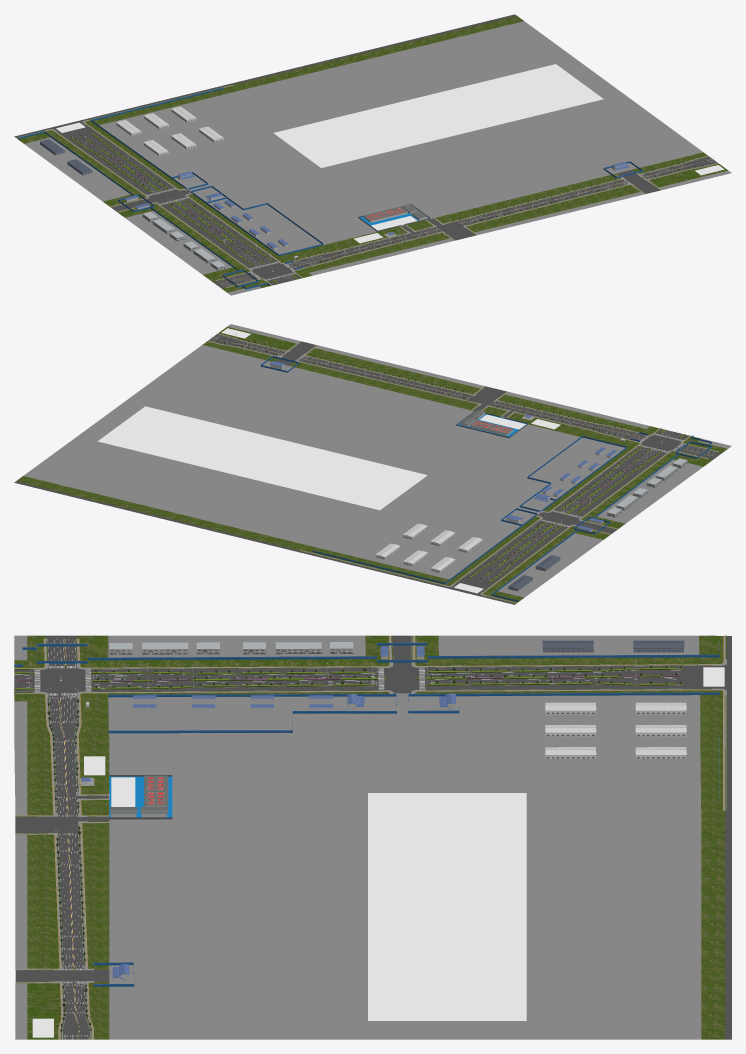
File: SceneIndex.FBX
The picture shows the model from 3 angles, top to bottom: view 1: azimuth 30°, elevation 25°; view 2: azimuth 150°, elevation 25°; view 3: azimuth 270°, elevation 25°; orthographic projection. The views are drawn at different scales.
Visible parts, largest first — view 1: SL_JingXiao_K3_LuMian03_001, SL_JingXiao_K3_Zi01_001, SL_JingXiao_K3_Cao01_001, SL_JingXiao_K3_LuMian01_001, SL_JingXiao_K3_MLY01_01, SL_JingXiao_K3_Cao02_001, SL_JingXiao_K3_Qiang01_03, SL_JingXiao_K3_Qiang01_02, SL_JingXiao_K3_Qiang01_04; view 2: SL_JingXiao_K3_LuMian03_001, SL_JingXiao_K3_Zi01_001, SL_JingXiao_K3_Cao01_001, SL_JingXiao_K3_LuMian01_001, SL_JingXiao_K3_MLY01_01, SL_JingXiao_K3_Cao02_001, SL_JingXiao_K3_Qiang01_03, SL_JingXiao_K3_Qiang01_02, SL_JingXiao_K3_Qiang01_04; view 3: SL_JingXiao_K3_LuMian03_001, SL_JingXiao_K3_Zi01_001, SL_JingXiao_K3_Cao01_001, SL_JingXiao_K3_LuMian01_001, SL_JingXiao_K3_MLY01_01, SL_JingXiao_K3_Cao02_001, SL_JingXiao_K3_Qiang01_04, SL_JingXiao_K3_Qiang01_02, SL_JingXiao_K3_DiXian02_001, SL_JingXiao_K3_MLY01_02, SL_JingXiao_K3_Qiang01_03, SL_JingXiao_K3_JianZhu01_77 (+4 smaller).
Part boxes in pixels (<box>): SL_JingXiao_K3_LuMian03_001: <box>24,21,731,295</box>; SL_JingXiao_K3_Zi01_001: <box>273,64,603,230</box>; SL_JingXiao_K3_Cao01_001: <box>17,16,727,292</box>; SL_JingXiao_K3_LuMian01_001: <box>14,14,717,288</box>; SL_JingXiao_K3_MLY01_01: <box>16,85,718,287</box>; SL_JingXiao_K3_Cao02_001: <box>16,84,717,287</box>; SL_JingXiao_K3_Qiang01_03: <box>91,87,223,189</box>; SL_JingXiao_K3_Qiang01_02: <box>206,197,323,255</box>; SL_JingXiao_K3_Qiang01_04: <box>17,131,238,270</box>; SL_JingXiao_K3_LuMian03_001: <box>23,324,731,597</box>; SL_JingXiao_K3_Zi01_001: <box>97,406,525,510</box>; SL_JingXiao_K3_Cao01_001: <box>16,326,727,602</box>; SL_JingXiao_K3_LuMian01_001: <box>14,334,721,604</box>; SL_JingXiao_K3_MLY01_01: <box>207,333,719,603</box>; SL_JingXiao_K3_Cao02_001: <box>208,334,718,603</box>; SL_JingXiao_K3_Qiang01_03: <box>312,508,537,584</box>; SL_JingXiao_K3_Qiang01_02: <box>527,436,627,500</box>; SL_JingXiao_K3_Qiang01_04: <box>491,453,679,601</box>; SL_JingXiao_K3_LuMian03_001: <box>14,635,701,1039</box>; SL_JingXiao_K3_Zi01_001: <box>111,777,526,1020</box>; SL_JingXiao_K3_Cao01_001: <box>14,635,724,1039</box>; SL_JingXiao_K3_LuMian01_001: <box>14,635,731,1039</box>; SL_JingXiao_K3_MLY01_01: <box>14,635,726,1039</box>; SL_JingXiao_K3_Cao02_001: <box>14,635,726,1039</box>; SL_JingXiao_K3_Qiang01_04: <box>87,641,719,660</box>; SL_JingXiao_K3_Qiang01_02: <box>108,694,345,733</box>; SL_JingXiao_K3_DiXian02_001: <box>14,638,680,1039</box>; SL_JingXiao_K3_MLY01_02: <box>14,668,682,689</box>; SL_JingXiao_K3_Qiang01_03: <box>408,692,719,801</box>; SL_JingXiao_K3_JianZhu01_77: <box>109,642,219,654</box>.
Bounding box in the file's own units: 98979 × 1246 × 74340.
